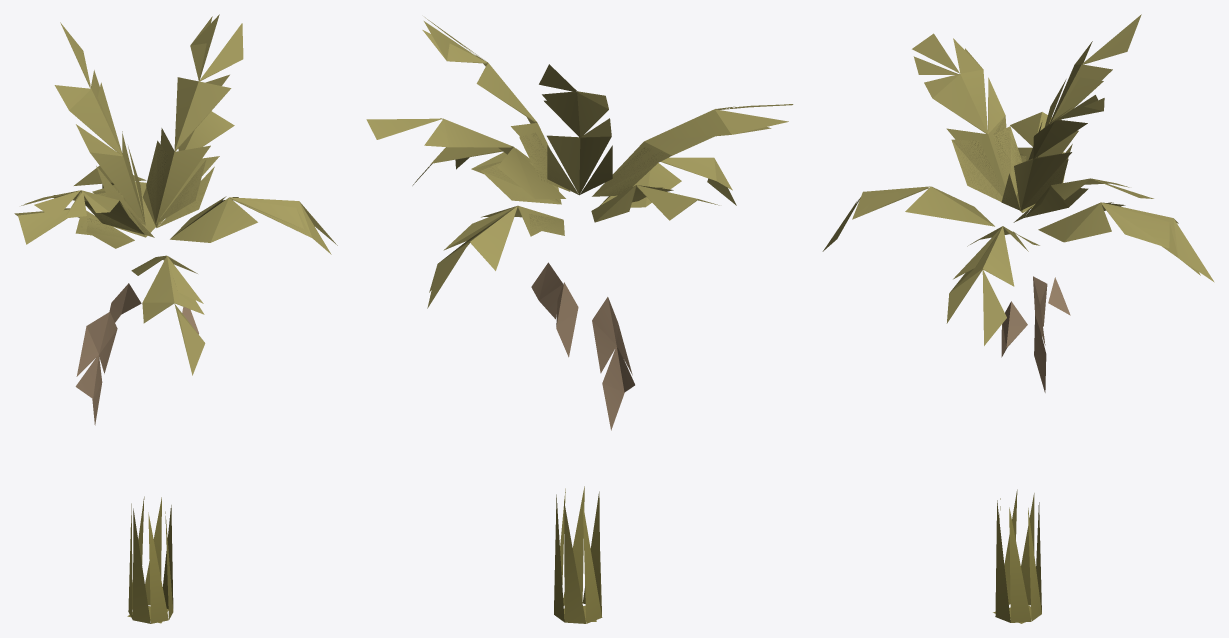
Rendered from banana.lod.glb.
The picture shows the model from 3 angles, left to right: view 1: azimuth 30°, elevation 25°; view 2: azimuth 150°, elevation 25°; view 3: azimuth 270°, elevation 25°; orthographic projection. The views are drawn at different scales.
Visible parts, largest first — view 1: banana; view 2: banana; view 3: banana.
Part boxes in pixels (x1,y1,x2,y2): banana: [14, 14, 337, 623]; banana: [366, 17, 793, 623]; banana: [822, 14, 1214, 623].
Size of the model in its own units: 4.41 by 7.03 by 4.29.
